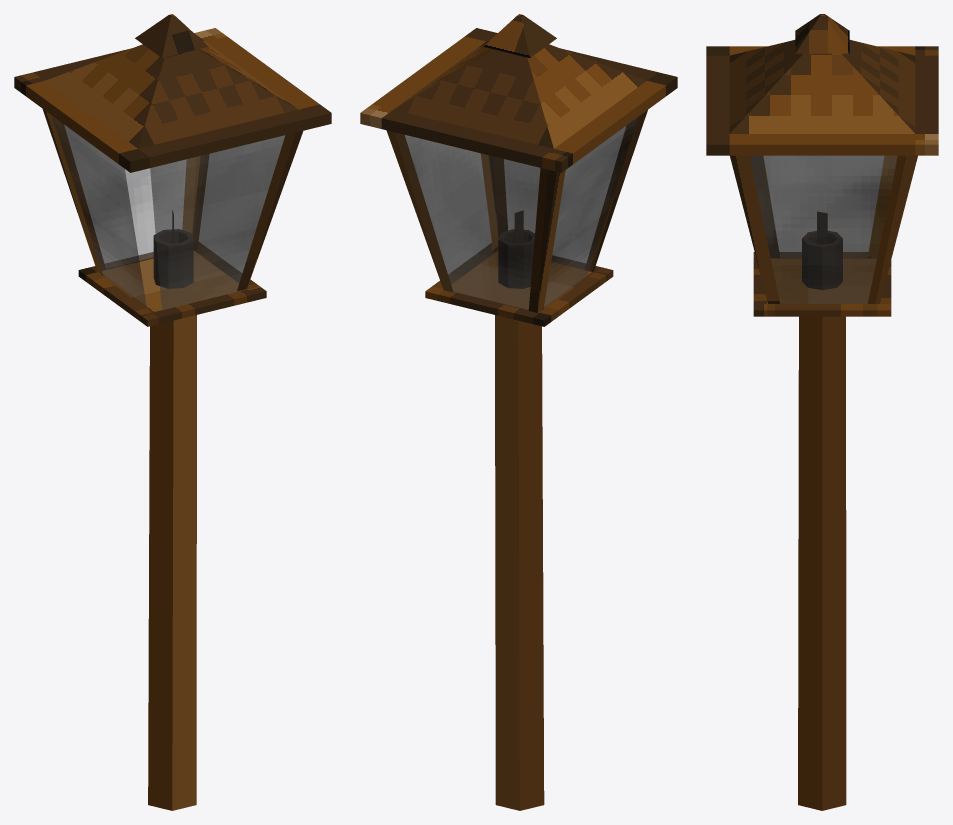
Rendered from lamp_post_889x09.gltf.
3 views of the same model, side by side, from view 1: azimuth 30°, elevation 25°; view 2: azimuth 150°, elevation 25°; view 3: azimuth 270°, elevation 25° (orthographic).
Visible parts, largest first — view 1: lamp_post_889x09; view 2: lamp_post_889x09; view 3: lamp_post_889x09.
Part boxes in pixels (x1=…): lamp_post_889x09: x1=14, y1=14, x2=331, y2=810; lamp_post_889x09: x1=360, y1=14, x2=677, y2=810; lamp_post_889x09: x1=706, y1=14, x2=938, y2=810.
Bounding box in the file's own units: 2 × 7.45 × 2.
Materials: 2 (2 with a texture image).
